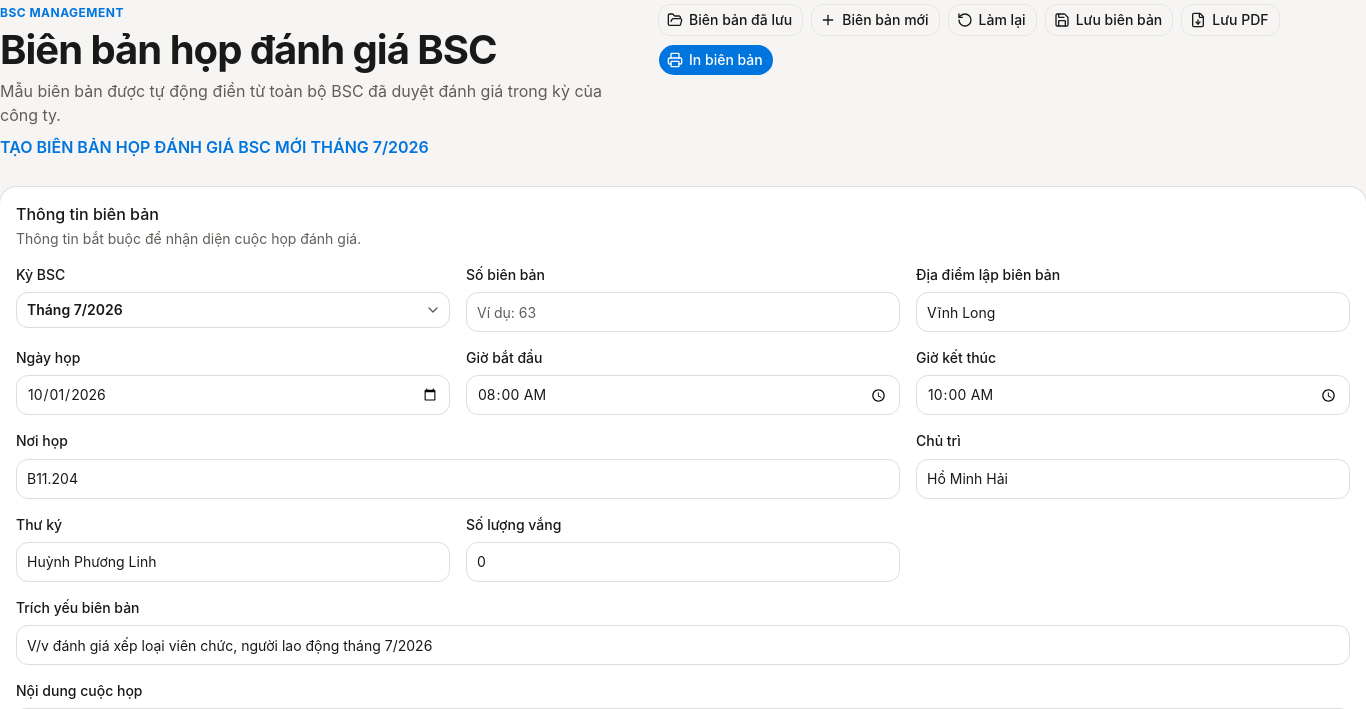
Test: BscMinutesPage › opens a previously saved snapshot without replacing it with current report data
Click the button "Biên bản đã lưu".
click(731, 20)  # box [658, 4, 803, 36]
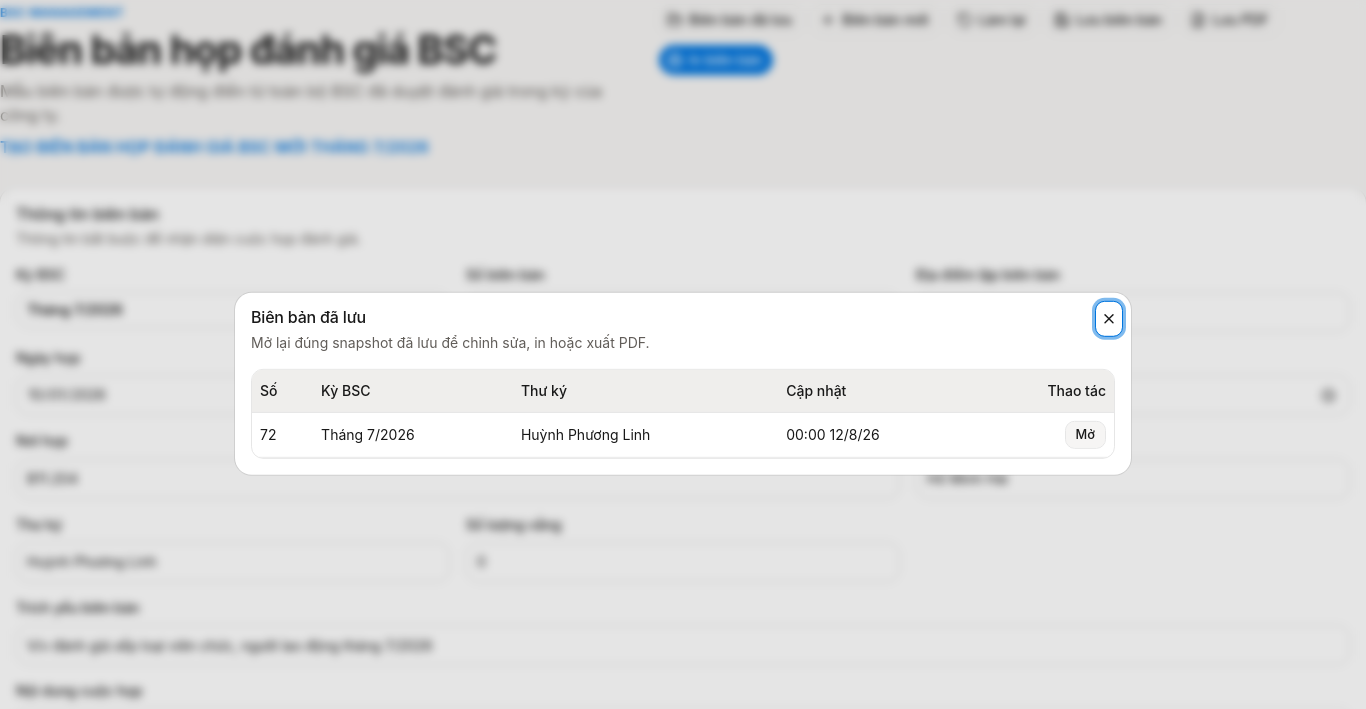
Result: the dialog "Biên bản đã lưu" is shown at [235, 293, 1131, 475]
Click the button "Mở".
click(1085, 435)  # box [1065, 421, 1106, 449]
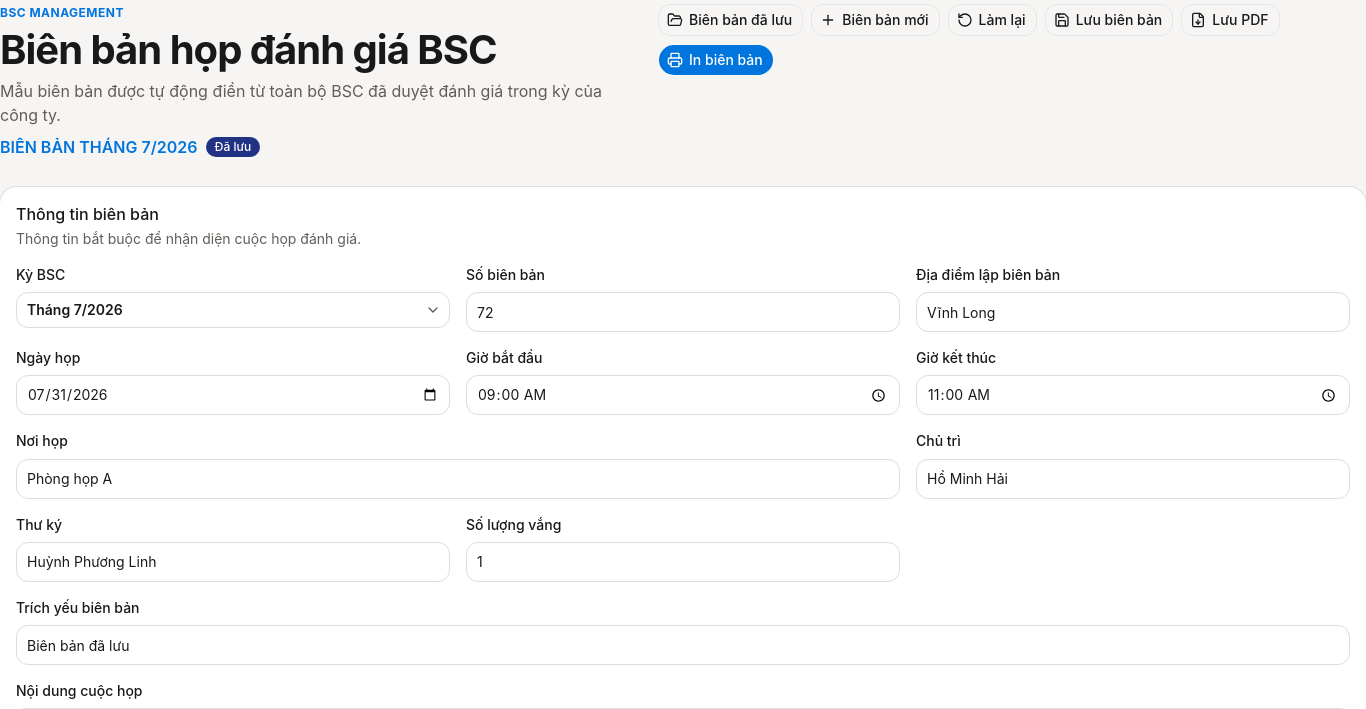
Expected: the field labelled "Thư ký" holds "Huỳnh Phương Linh", [16, 542, 450, 582]
Result: the icon "Đã lưu" is shown at [206, 137, 260, 157]
Result: the number field labelled "Số biên bản" holds "72" at [466, 292, 900, 332]
